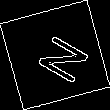N_NW: (23, 25, 87, 85)
